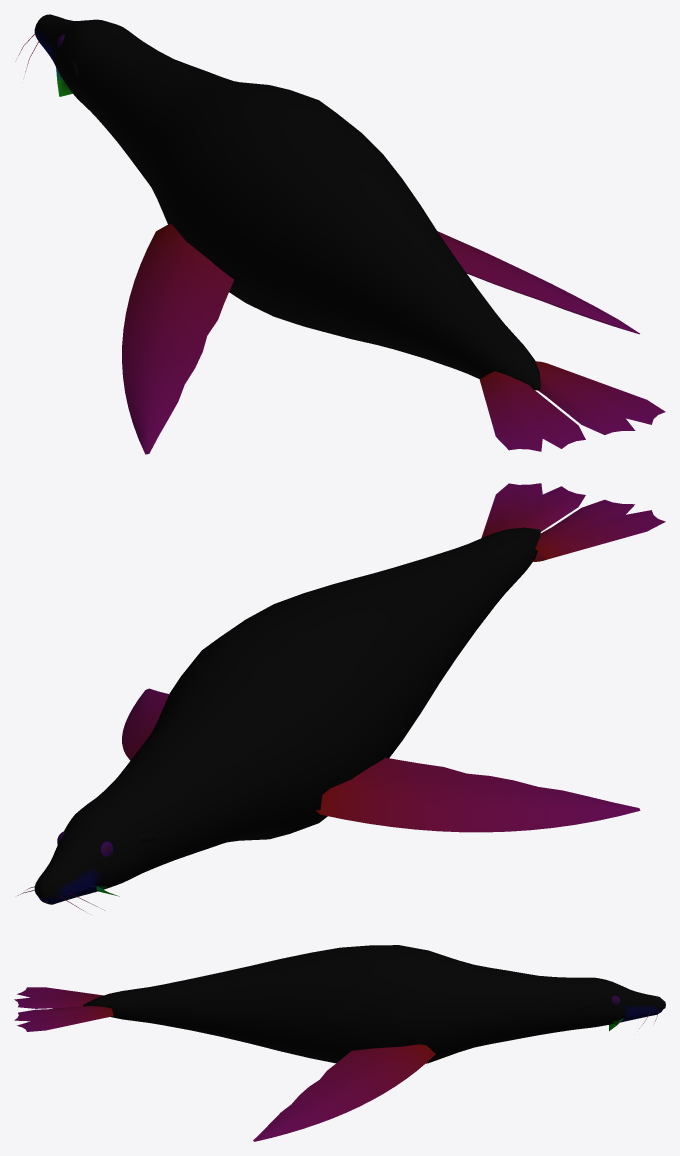
The model's file is sea_lion_lo.glb.
3 views of the same model, one above another, from view 1: azimuth 30°, elevation 25°; view 2: azimuth 150°, elevation 25°; view 3: azimuth 270°, elevation 25° (orthographic). The views are drawn at different scales.
Parts seen in each view (by area): view 1: sea_lion_lo; view 2: sea_lion_lo; view 3: sea_lion_lo.
Boxes of the visible parts, bbox=[...] form: sea_lion_lo: bbox=[15, 14, 665, 454]; sea_lion_lo: bbox=[17, 483, 665, 914]; sea_lion_lo: bbox=[14, 945, 665, 1141].
Bounding box in the file's own units: 1.13 × 0.4491 × 2.2.
